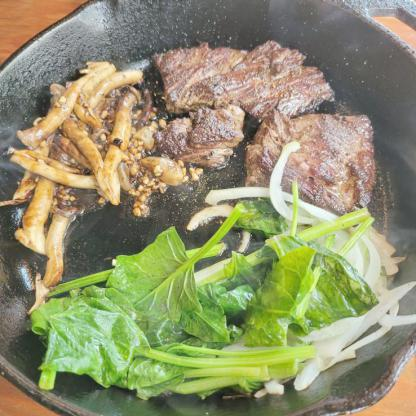Carne: (152, 49, 335, 118), (253, 109, 374, 202), (165, 104, 244, 167)
